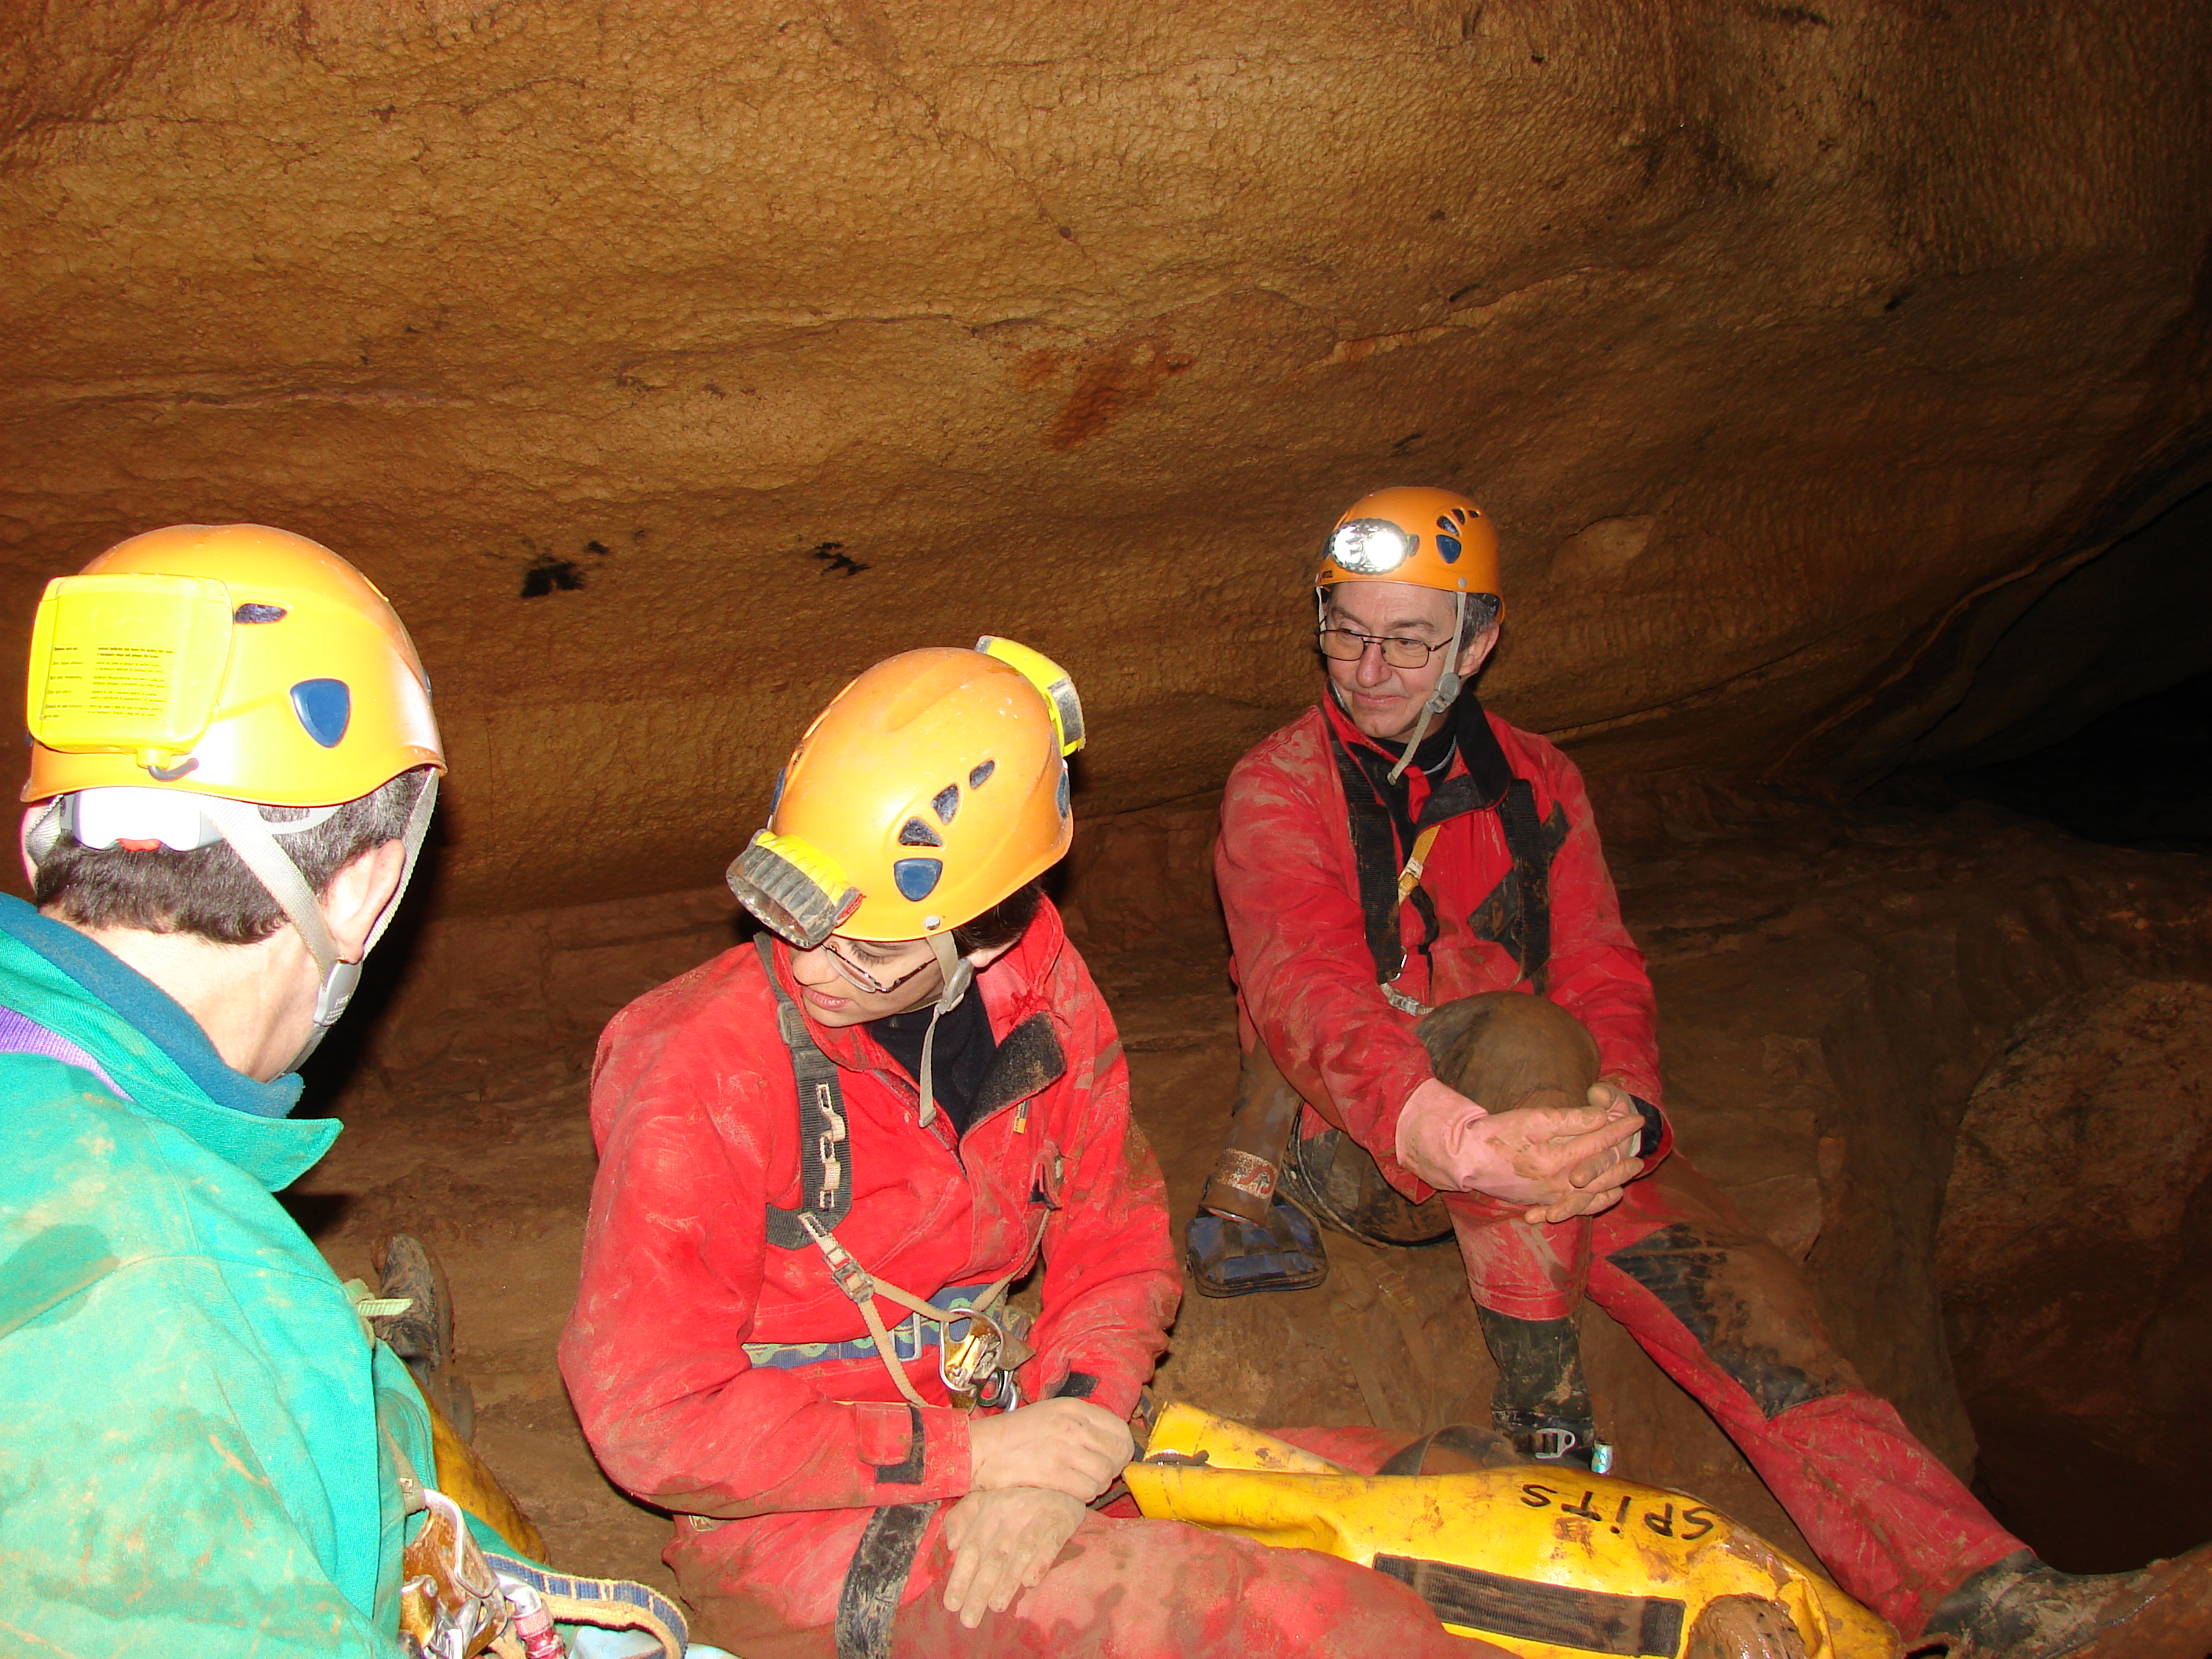helmet: (24, 518, 427, 784), (745, 636, 1087, 925), (1306, 479, 1514, 596)
